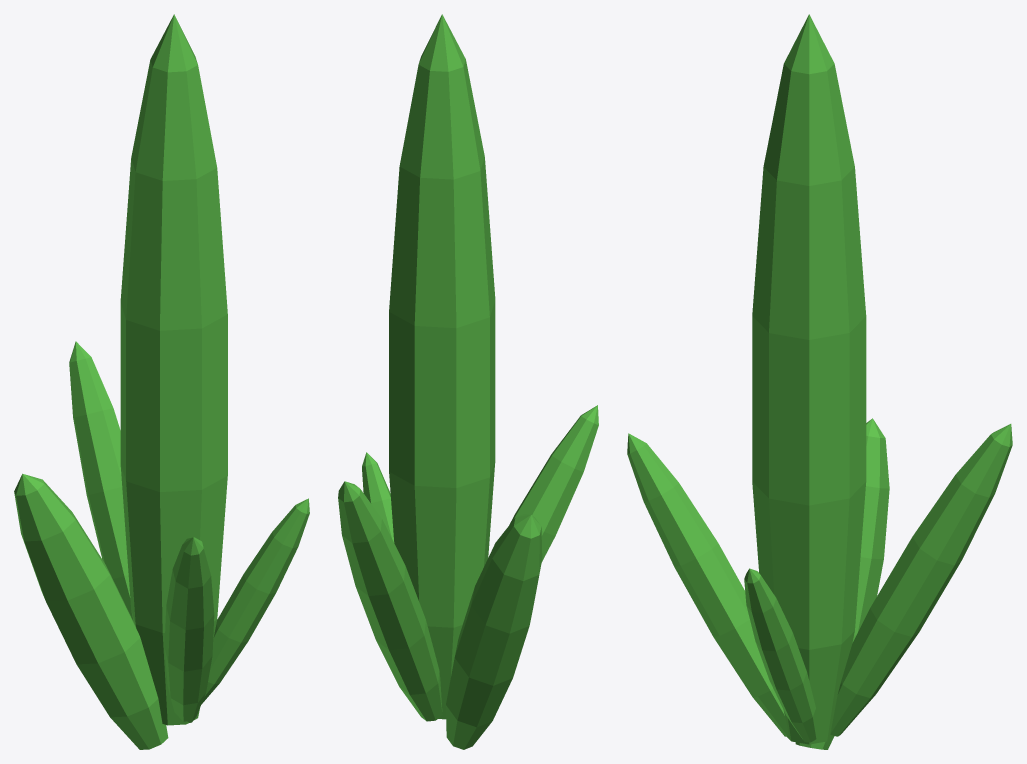
Rendered from Cactus_Spiky.fbx.
3 renders of one model, left to right at view 1: azimuth 30°, elevation 25°; view 2: azimuth 150°, elevation 25°; view 3: azimuth 270°, elevation 25°, orthographic. The views are drawn at different scales.
Visible parts, largest first — view 1: Cactus_Spiky; view 2: Cactus_Spiky; view 3: Cactus_Spiky.
Part boxes in pixels (x1=…): Cactus_Spiky: x1=14, y1=14, x2=309, y2=749; Cactus_Spiky: x1=338, y1=14, x2=598, y2=749; Cactus_Spiky: x1=627, y1=14, x2=1012, y2=749.
Size of the model in its own units: 94.65 by 280 by 131.
